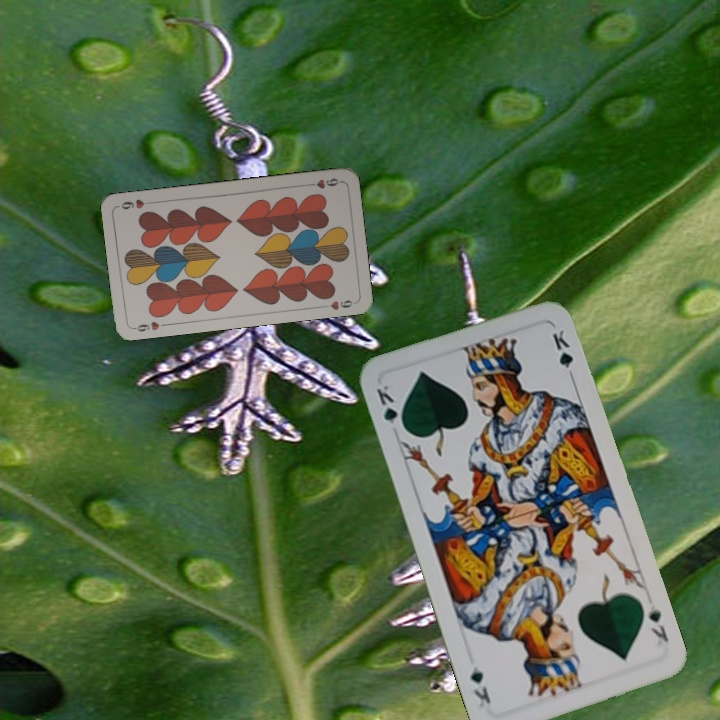GK: (372, 381, 408, 434), (644, 601, 671, 645)
H9: (129, 317, 170, 334), (303, 174, 343, 191)
